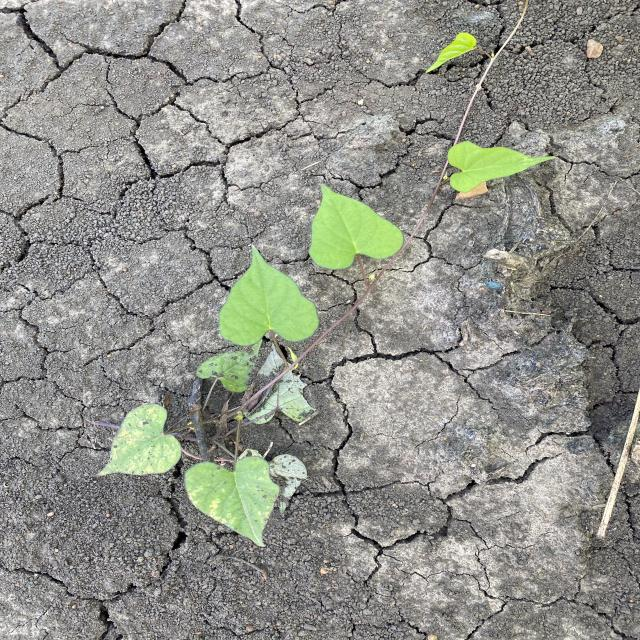MorningGlory: (89, 2, 560, 549)
